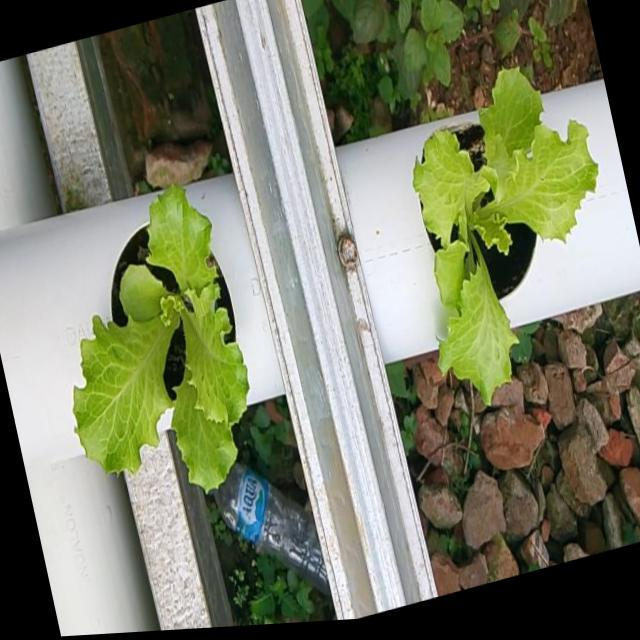Baby: (413, 60, 598, 397), (75, 175, 252, 486)
